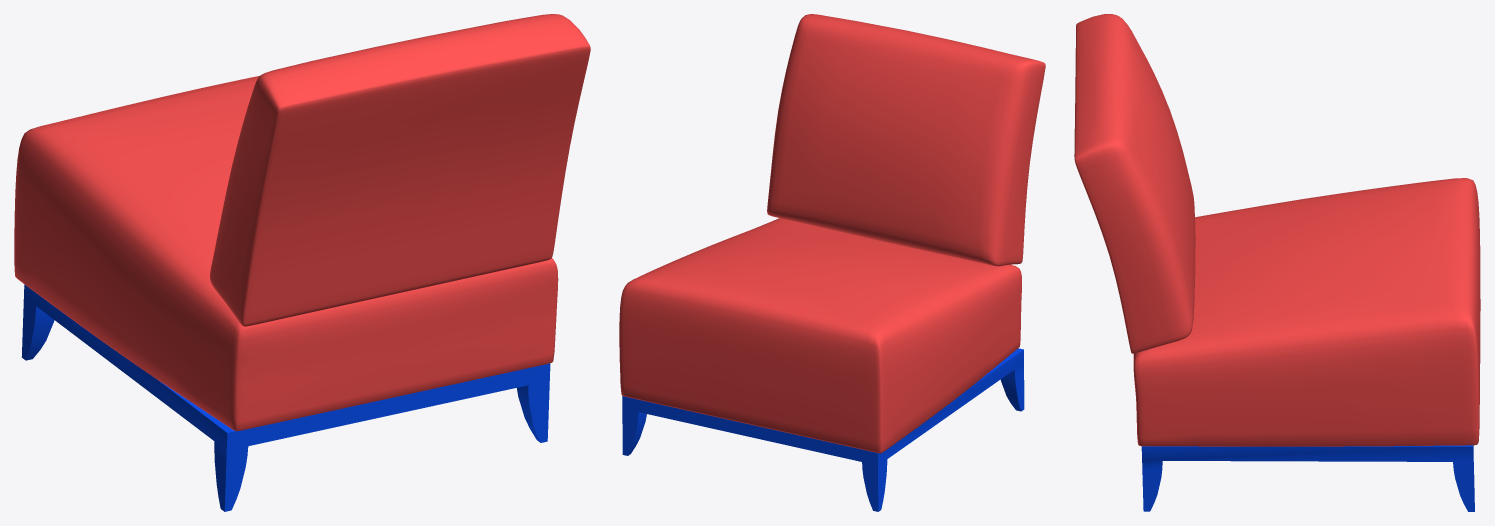
File: poltrona-sem-braco.FBX
The picture shows the model from 3 angles, left to right: view 1: azimuth 30°, elevation 25°; view 2: azimuth 150°, elevation 25°; view 3: azimuth 270°, elevation 25°; orthographic projection. The views are drawn at different scales.
Parts seen in each view (by area): view 1: poltrona_sem_braco; view 2: poltrona_sem_braco; view 3: poltrona_sem_braco.
Part boxes in pixels (<box>): poltrona_sem_braco: <box>14,14,590,511</box>; poltrona_sem_braco: <box>619,14,1045,511</box>; poltrona_sem_braco: <box>1074,14,1480,511</box>.
Size of the model in its own units: 72.57 by 88.66 by 86.74.
